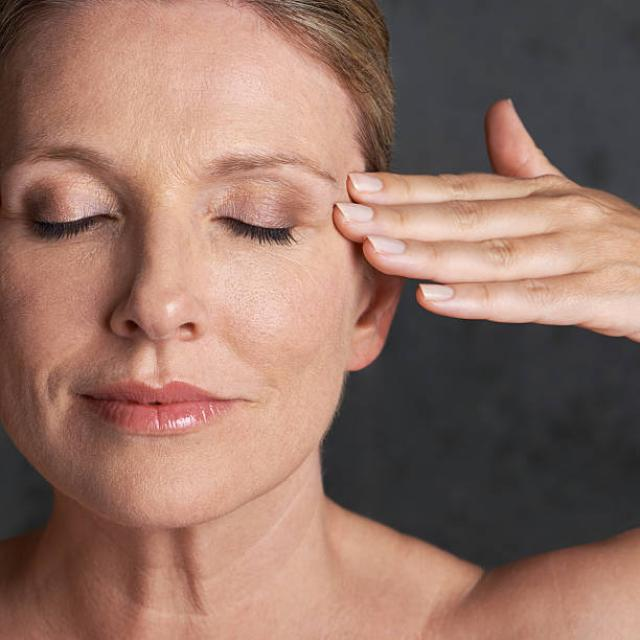Nail: (367, 236, 407, 255), (337, 203, 373, 223), (349, 174, 384, 192), (420, 285, 455, 301)
